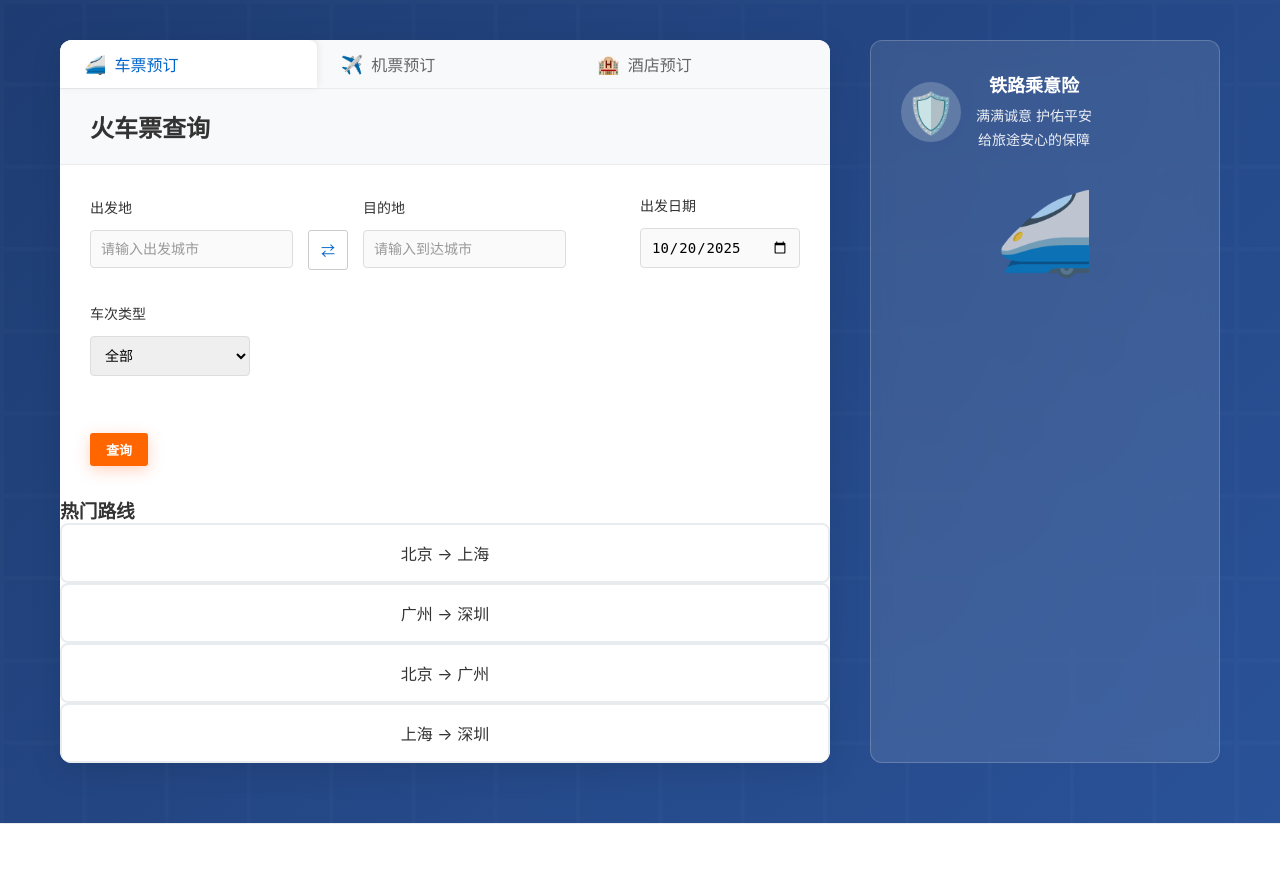
Scenario: HomePage Component › 应该支持点击热门路线快速填充表单
Click the text "北京 → 上海". click: (445, 553)
box: [60, 523, 830, 583]
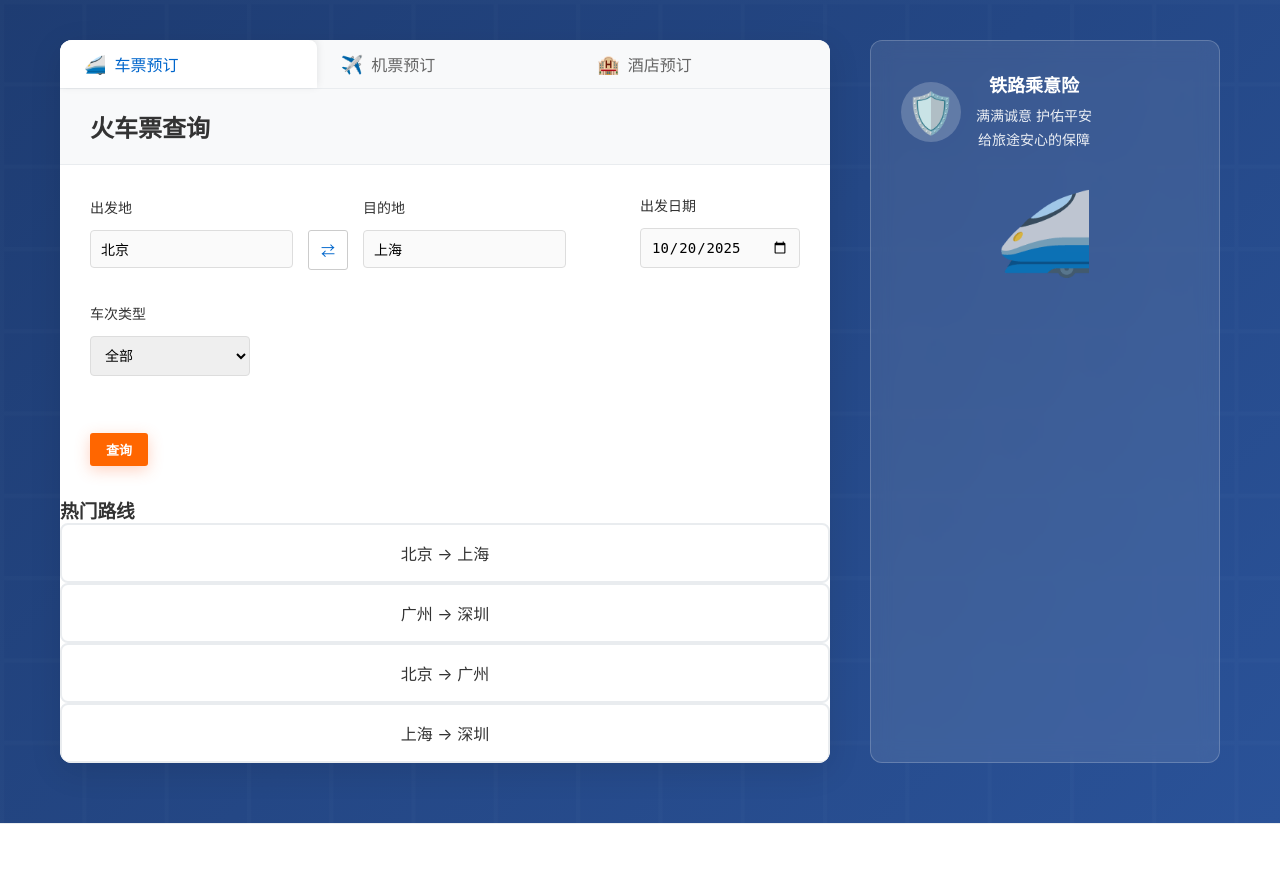
Now the field labelled "出发地" holds "北京", box [90, 230, 293, 268]
Now the field labelled "目的地" holds "上海", box [363, 230, 566, 268]
